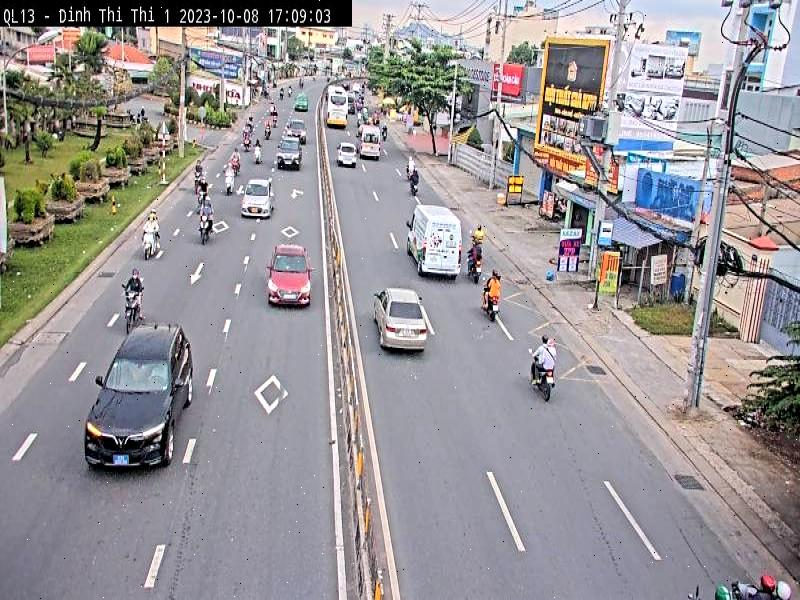car: (83, 323, 198, 476), (407, 200, 462, 278), (375, 289, 430, 352), (267, 240, 311, 304), (240, 179, 274, 216)
motorcycle: (122, 286, 140, 329)
